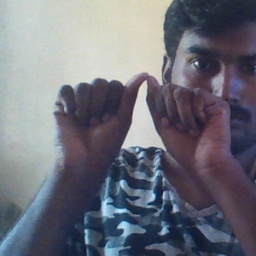A: (60, 71, 223, 168)
